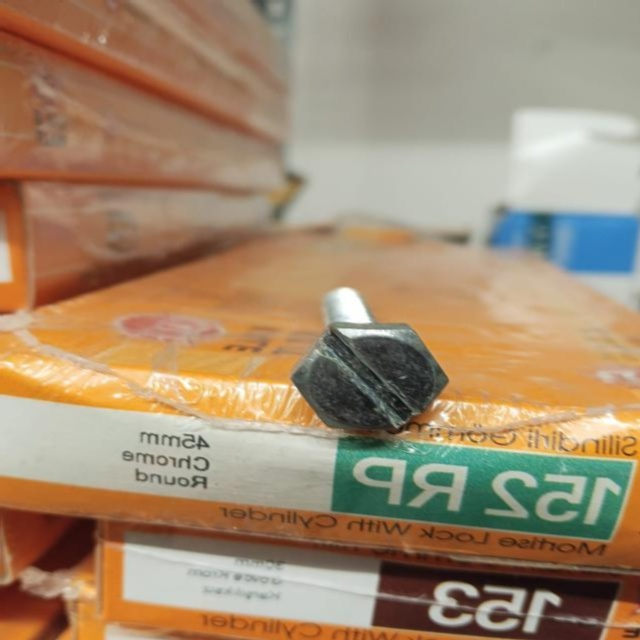duz: (288, 321, 449, 431)
